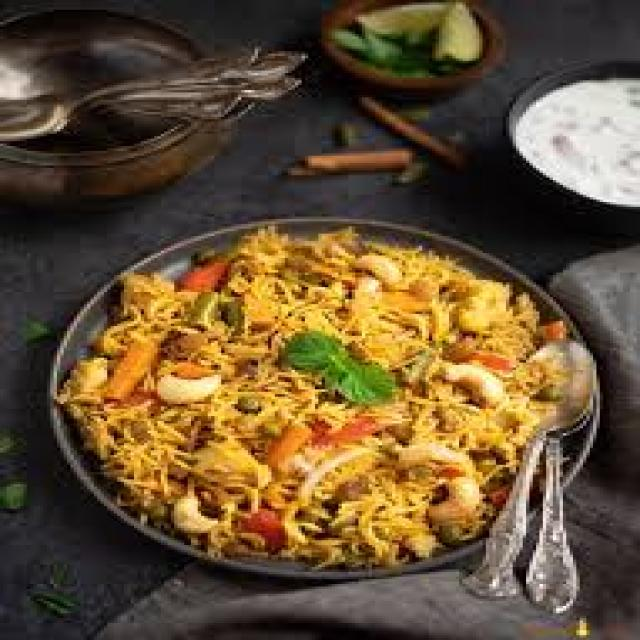Wet Waste: (73, 229, 580, 574)
